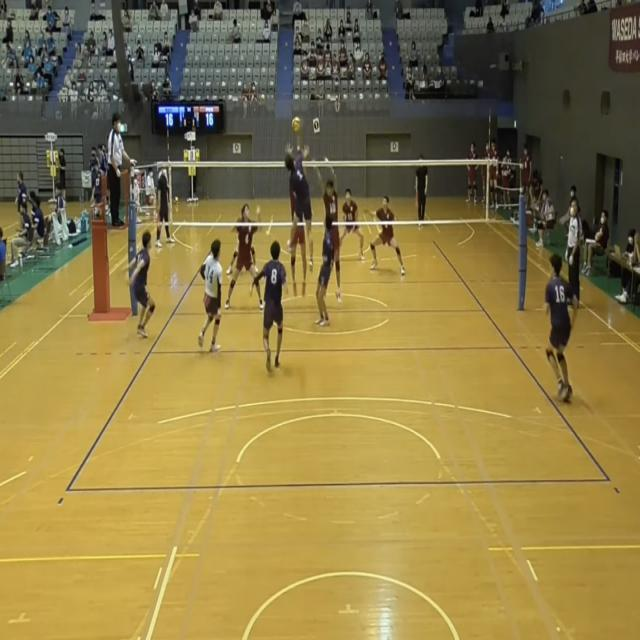spike: (281, 113, 317, 280)
